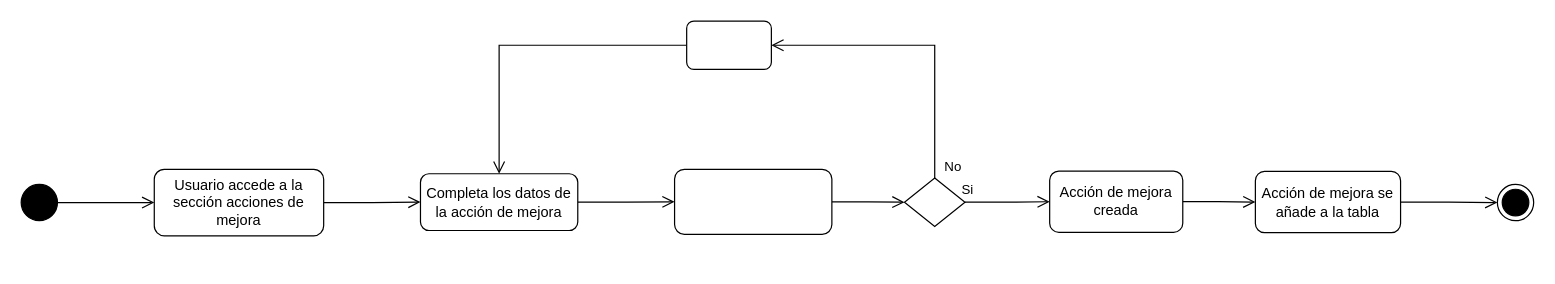
This 1555x284 diagram has some shape labels left out. The shapes that lost their labels are listed below. From the top down, each one's centre as x and y in pixels, then its label:
point 728,44: Error
point 752,201: ¿Todos los campos completados?
